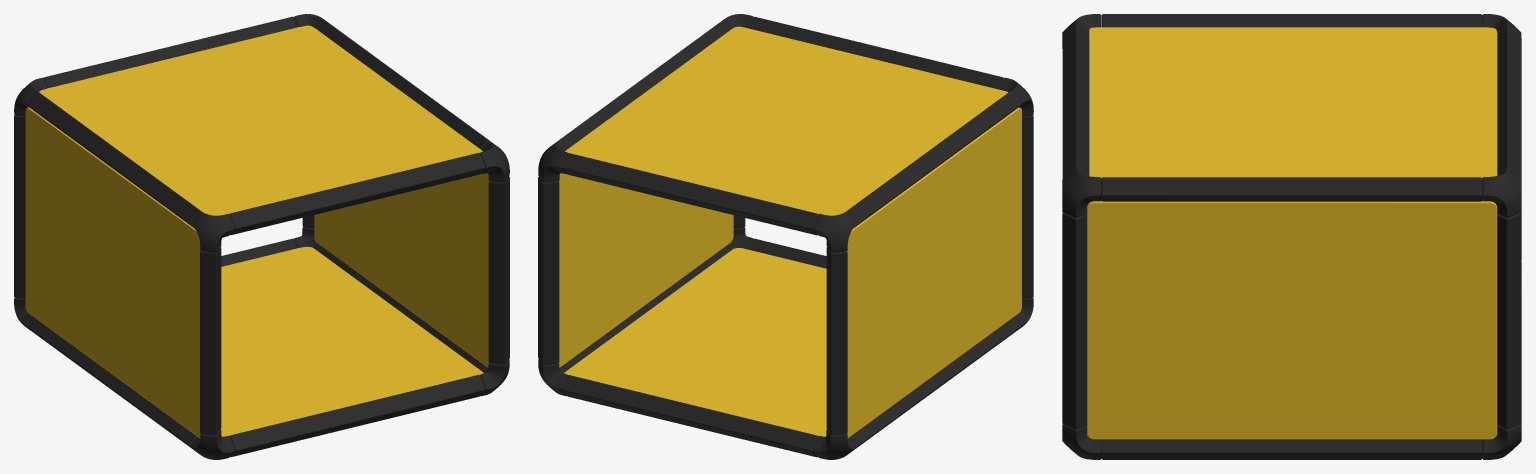
The picture shows the model from 3 angles, left to right: view 1: azimuth 30°, elevation 25°; view 2: azimuth 150°, elevation 25°; view 3: azimuth 270°, elevation 25°; orthographic projection. The views are drawn at different scales.
Parts seen in each view (by area): view 1: 329x374x229; view 2: 329x374x229; view 3: 329x374x229.
Boxes of the visible parts, left/top/right/bottom form: 329x374x229: left=14, top=14, right=509, bottom=459; 329x374x229: left=538, top=14, right=1033, bottom=459; 329x374x229: left=1062, top=14, right=1521, bottom=459.
Bounding box in the file's own units: 0.4067 × 0.3066 × 0.4513.
